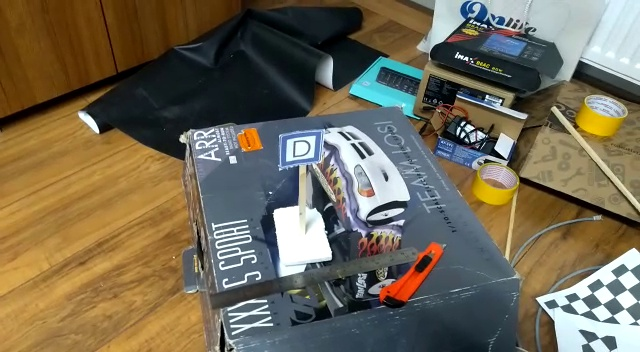durak: (277, 129, 325, 166)
